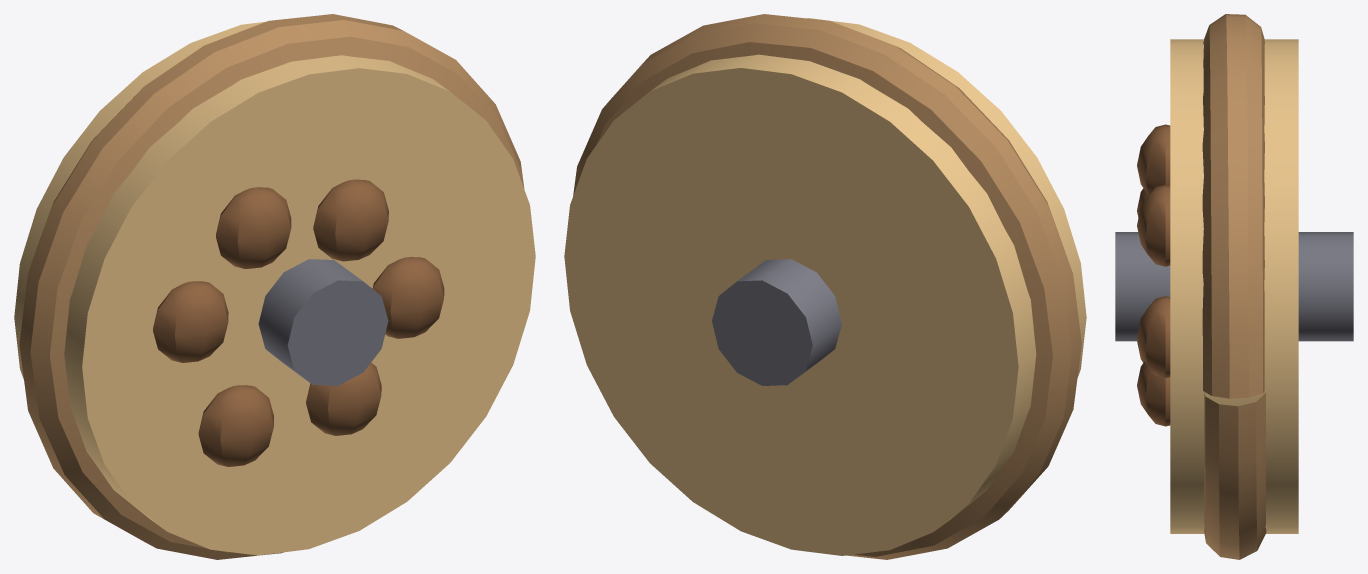
File: ITEM_CookieWheel.fbx
3 views of the same model, side by side, from view 1: azimuth 30°, elevation 25°; view 2: azimuth 150°, elevation 25°; view 3: azimuth 270°, elevation 25° (orthographic). The views are drawn at different scales.
Parts seen in each view (by area): view 1: ITEM_CookieWheel; view 2: ITEM_CookieWheel; view 3: ITEM_CookieWheel.
Boxes of the visible parts, x1,y1,x2,y2 form: ITEM_CookieWheel: (14, 14, 535, 559); ITEM_CookieWheel: (564, 14, 1086, 559); ITEM_CookieWheel: (1115, 14, 1353, 559).
Size of the model in its own units: 0.598 by 0.5983 by 0.26.
